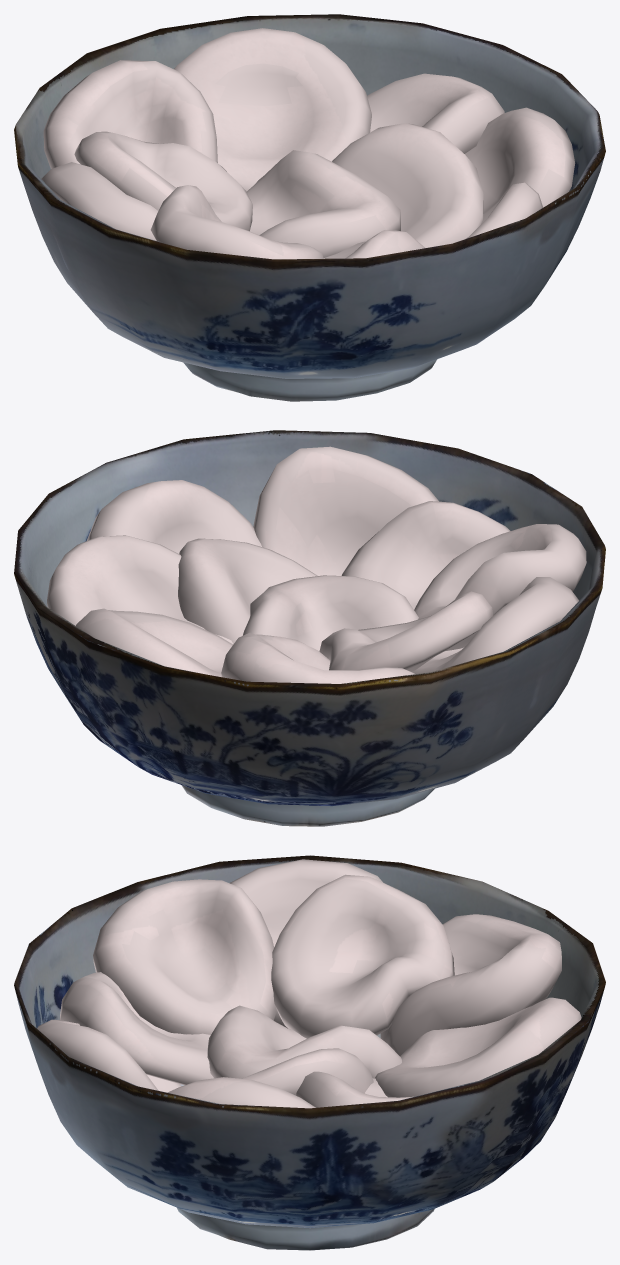
The model's file is TunGuo.fbx.
3 views of the same model, one above another, from view 1: azimuth 30°, elevation 25°; view 2: azimuth 150°, elevation 25°; view 3: azimuth 270°, elevation 25° (orthographic).
Parts seen in each view (by area): view 1: TunGuo; view 2: TunGuo; view 3: TunGuo.
Boxes of the visible parts, x1,y1,x2,y2 form: TunGuo: (14,14,605,401); TunGuo: (14,430,605,826); TunGuo: (14,855,605,1250).
Bounding box in the file's own units: 18.4 × 7.85 × 18.23.
